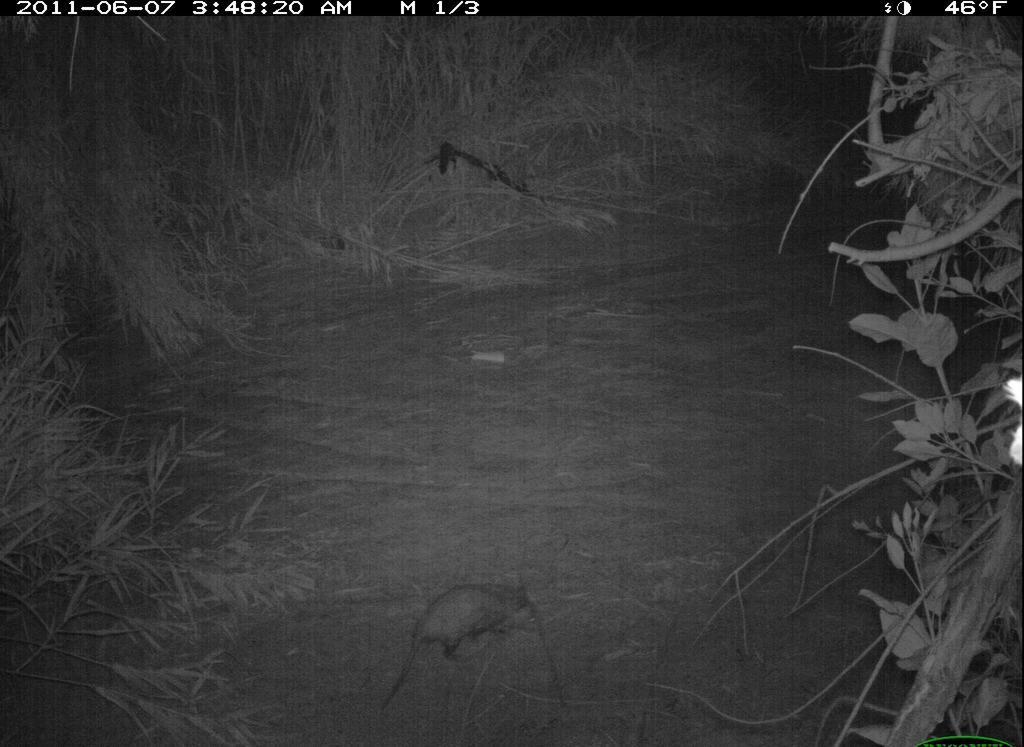opossum: (368, 582, 548, 721)
